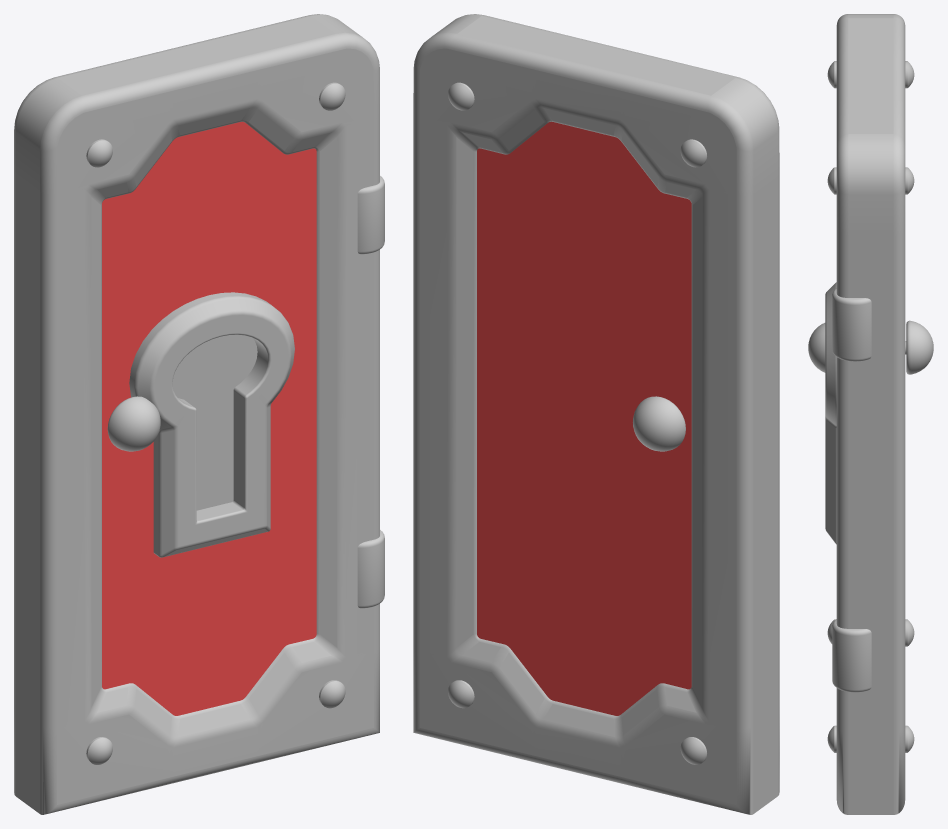
File: door.dae
The picture shows the model from 3 angles, left to right: view 1: azimuth 30°, elevation 25°; view 2: azimuth 150°, elevation 25°; view 3: azimuth 270°, elevation 25°; orthographic projection. The views are drawn at different scales.
Parts seen in each view (by area): view 1: Frame, Door, Keyhole, Hole, Hinge, Knob; view 2: Frame, Door, Knob; view 3: Frame, Hinge, Keyhole, Knob.
Boxes of the visible parts, x1,y1,x2,y2 form: Frame: [14, 14, 379, 814]; Door: [102, 121, 316, 715]; Keyhole: [129, 292, 294, 557]; Hole: [172, 334, 257, 510]; Hinge: [357, 176, 384, 608]; Knob: [107, 396, 160, 451]; Frame: [413, 14, 779, 814]; Door: [477, 121, 691, 715]; Knob: [633, 396, 685, 451]; Frame: [827, 14, 914, 814]; Hinge: [832, 288, 871, 692]; Keyhole: [825, 282, 836, 544]; Knob: [808, 320, 933, 374].
Size of the model in its own units: 81.6 by 160 by 27.53.
